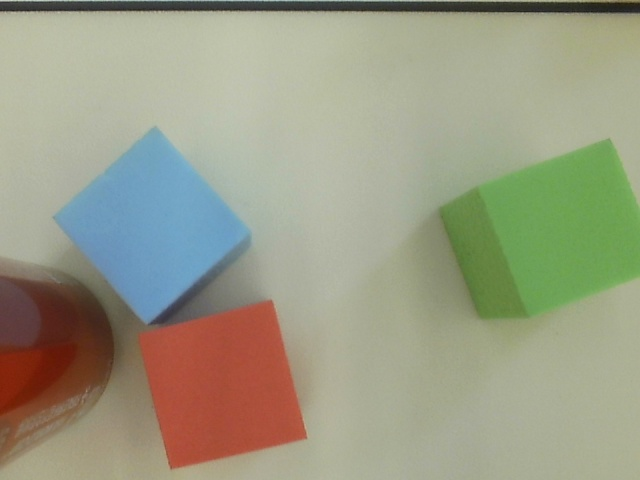bluecube: (48, 121, 260, 326)
cola: (1, 244, 118, 480)
greencube: (426, 137, 640, 326)
redcube: (126, 298, 314, 479)
